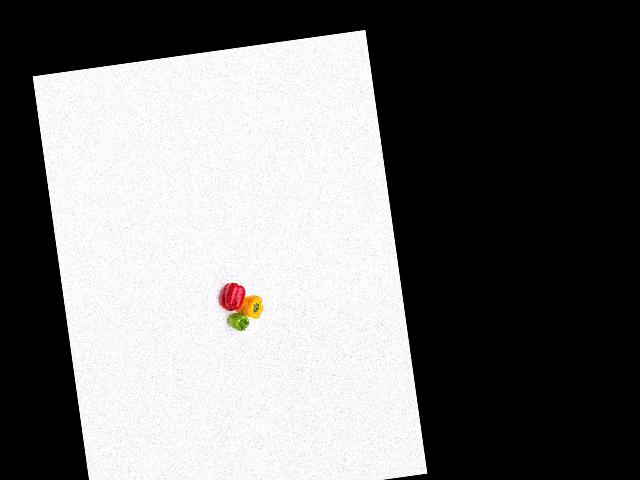bell_pepper: (225, 310, 252, 337)
